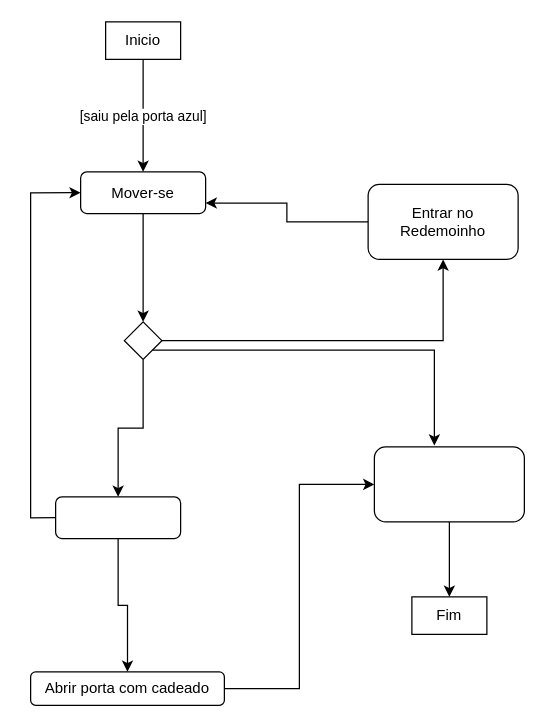
The diagram is 546 pixels wide and 728 high, and some of its shapes have lost their labels. The centre of each missing label's shape, as x and y in pixels:
"Passar a porta verde" belongs at point (448, 484).
"Pegar Chave" belongs at point (117, 517).
